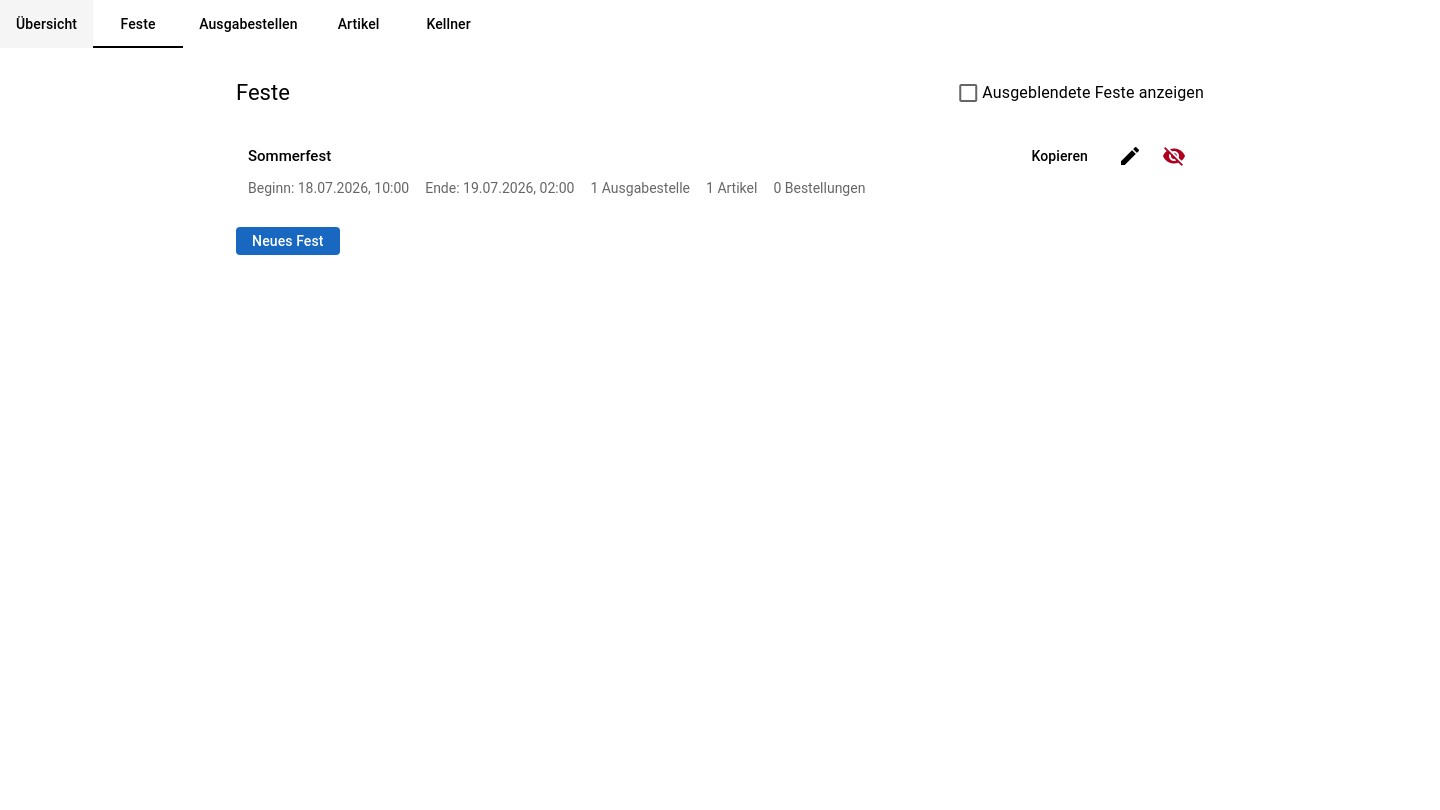
Test: the sizes of the controls on the laptop and on the phone › gives a dialog opened in the admin the admin sizes
Click the button with test id "new-festival" at {"x": 288, "y": 241}, box [236,227,340,255]
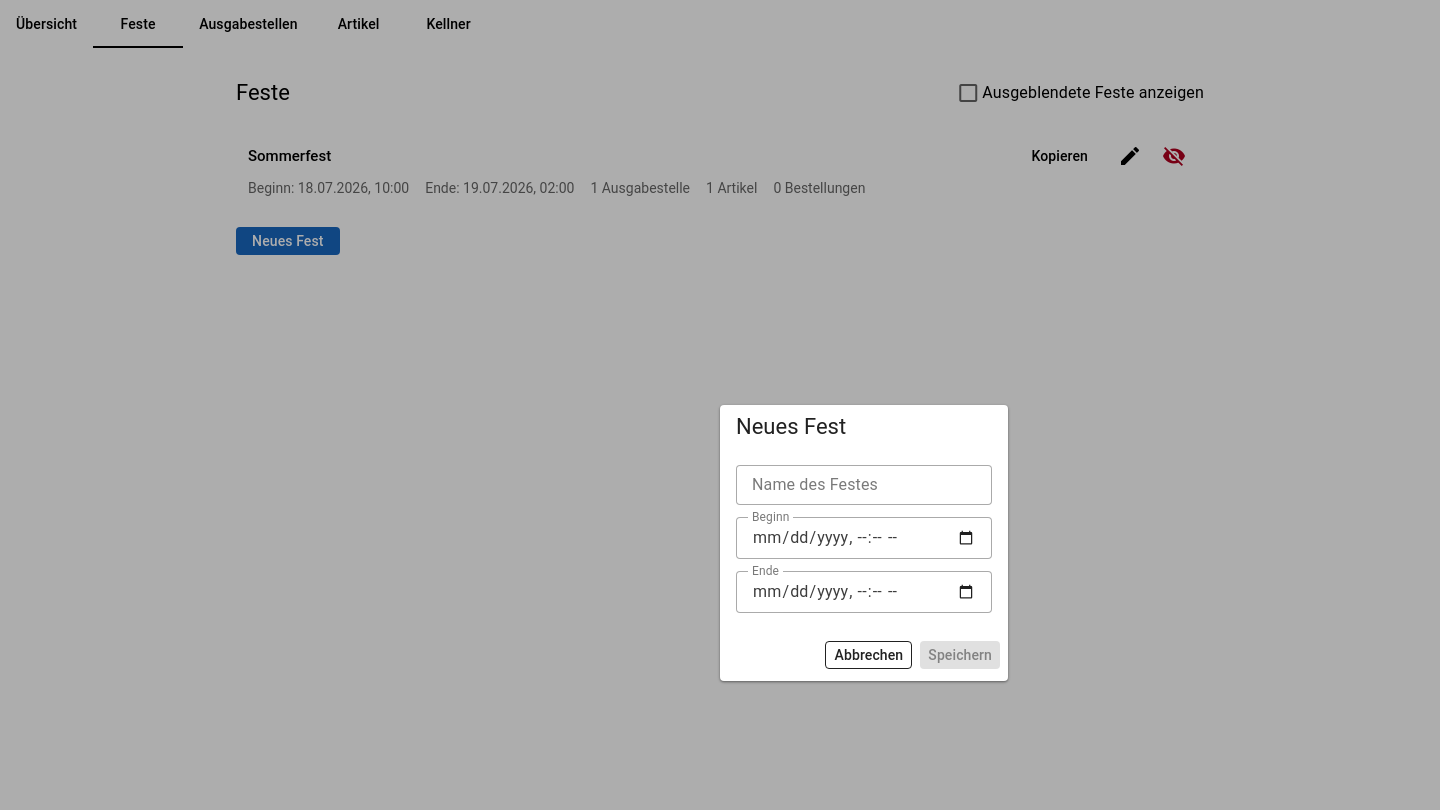
expect the element with test id "form-dialog" is shown: met, box [720,405,1008,681]
